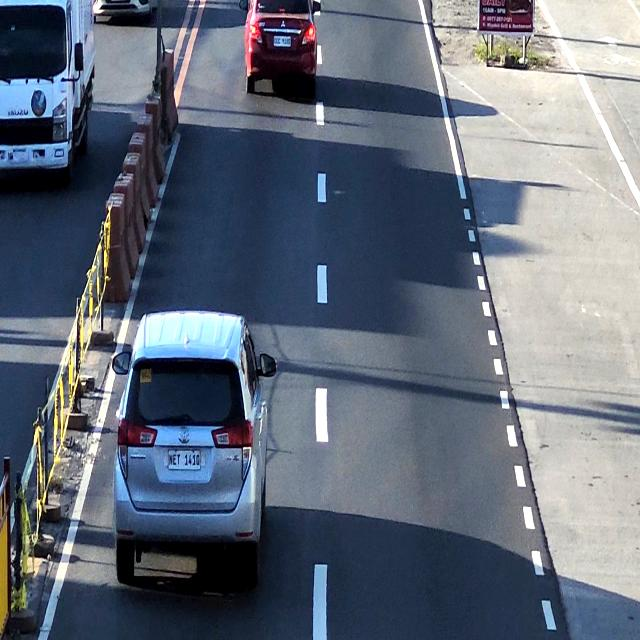Car: (116, 315, 270, 576), (242, 0, 321, 95)
License-Plate: (167, 452, 203, 472), (272, 37, 292, 48)
